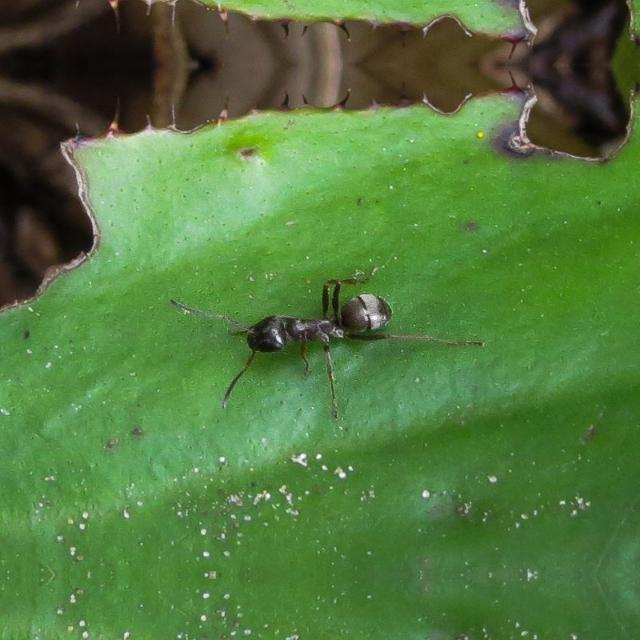Formica: (204, 275, 408, 393)
